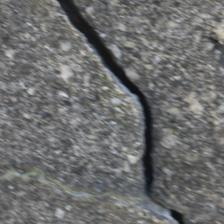Crack: (58, 4, 161, 199)
